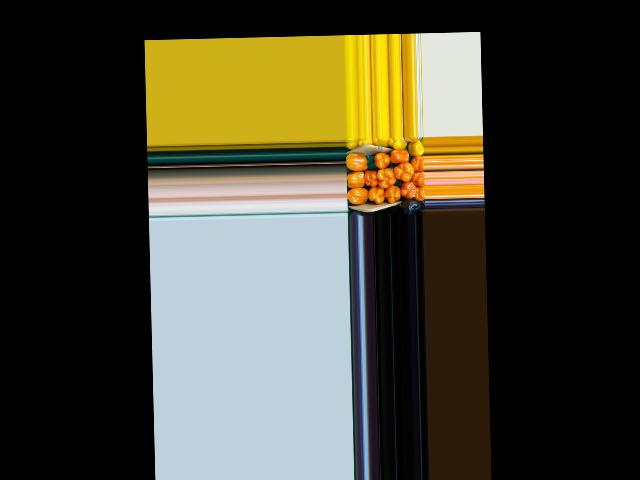bell_pepper: (385, 138, 407, 149)
